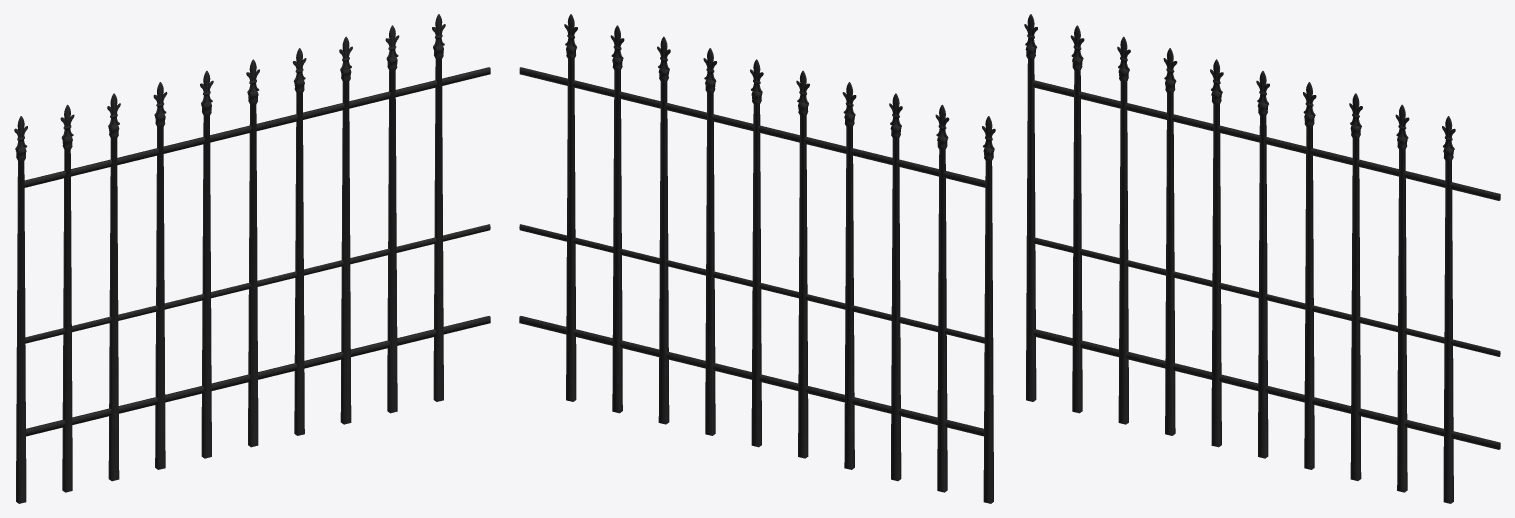
File: fenceSimplified.fbx
3 views of the same model, side by side, from view 1: azimuth 30°, elevation 25°; view 2: azimuth 150°, elevation 25°; view 3: azimuth 330°, elevation 25° (orthographic).
Parts seen in each view (by area): view 1: Fence_01_Canal_LOD0.001; view 2: Fence_01_Canal_LOD0.001; view 3: Fence_01_Canal_LOD0.001.
Boxes of the visible parts, <box> form: Fence_01_Canal_LOD0.001: <box>14,14,490,503</box>; Fence_01_Canal_LOD0.001: <box>519,14,995,503</box>; Fence_01_Canal_LOD0.001: <box>1024,14,1500,503</box>.
Size of the model in its own units: 4002 by 3105 by 49.51.
